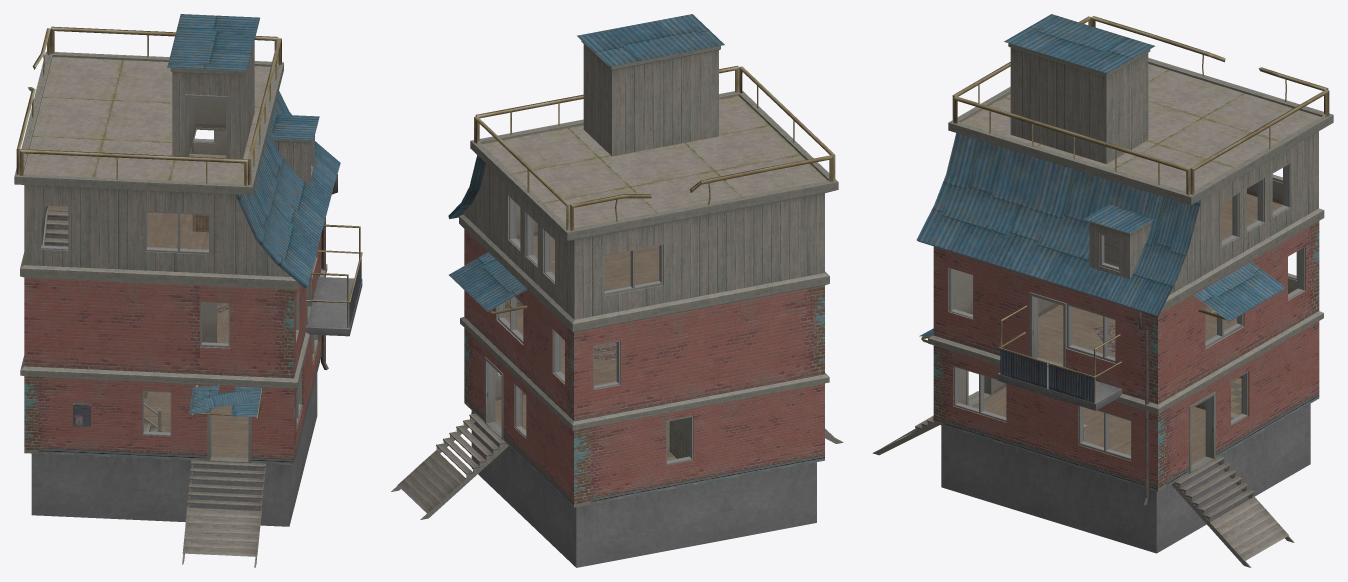
File: BGHouse.obj
The picture shows the model from 3 angles, left to right: view 1: azimuth 30°, elevation 25°; view 2: azimuth 150°, elevation 25°; view 3: azimuth 270°, elevation 25°; orthographic projection.
Visible parts, largest first — view 1: d.001_HouseT3_0; view 2: d.001_HouseT3_0; view 3: d.001_HouseT3_0.
Part boxes in pixels (box(x1,y1,x2,y2)): d.001_HouseT3_0: box(14, 14, 362, 567); d.001_HouseT3_0: box(391, 14, 843, 567); d.001_HouseT3_0: box(872, 14, 1333, 567).
Bounding box in the file's own units: 14.53 × 16.37 × 15.56.
Materials: 1 (1 with a texture image).
